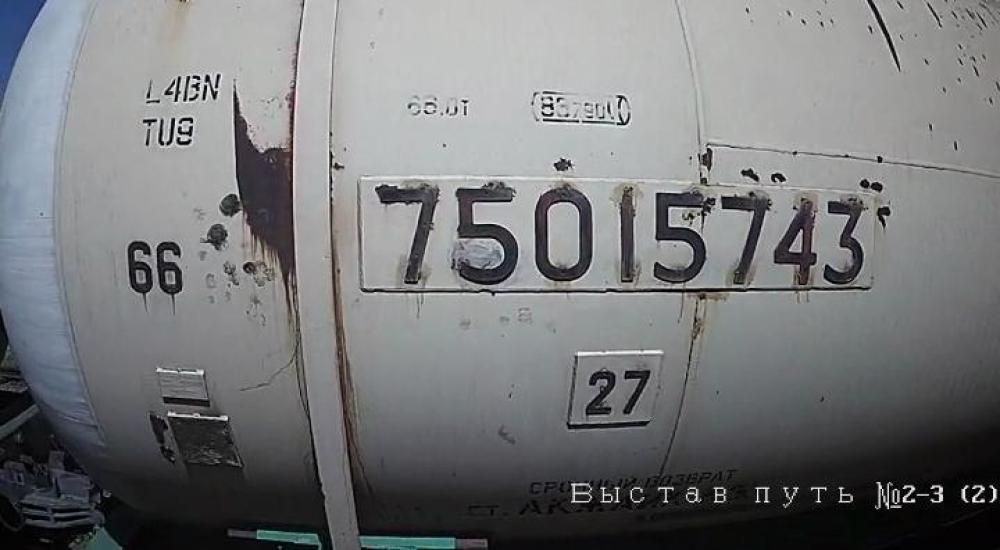Wagon-number: (374, 178, 866, 288)
